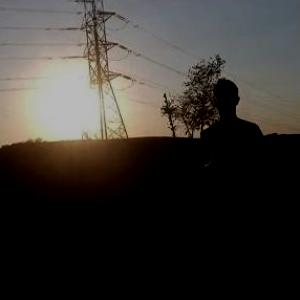follow: (192, 71, 272, 299)
